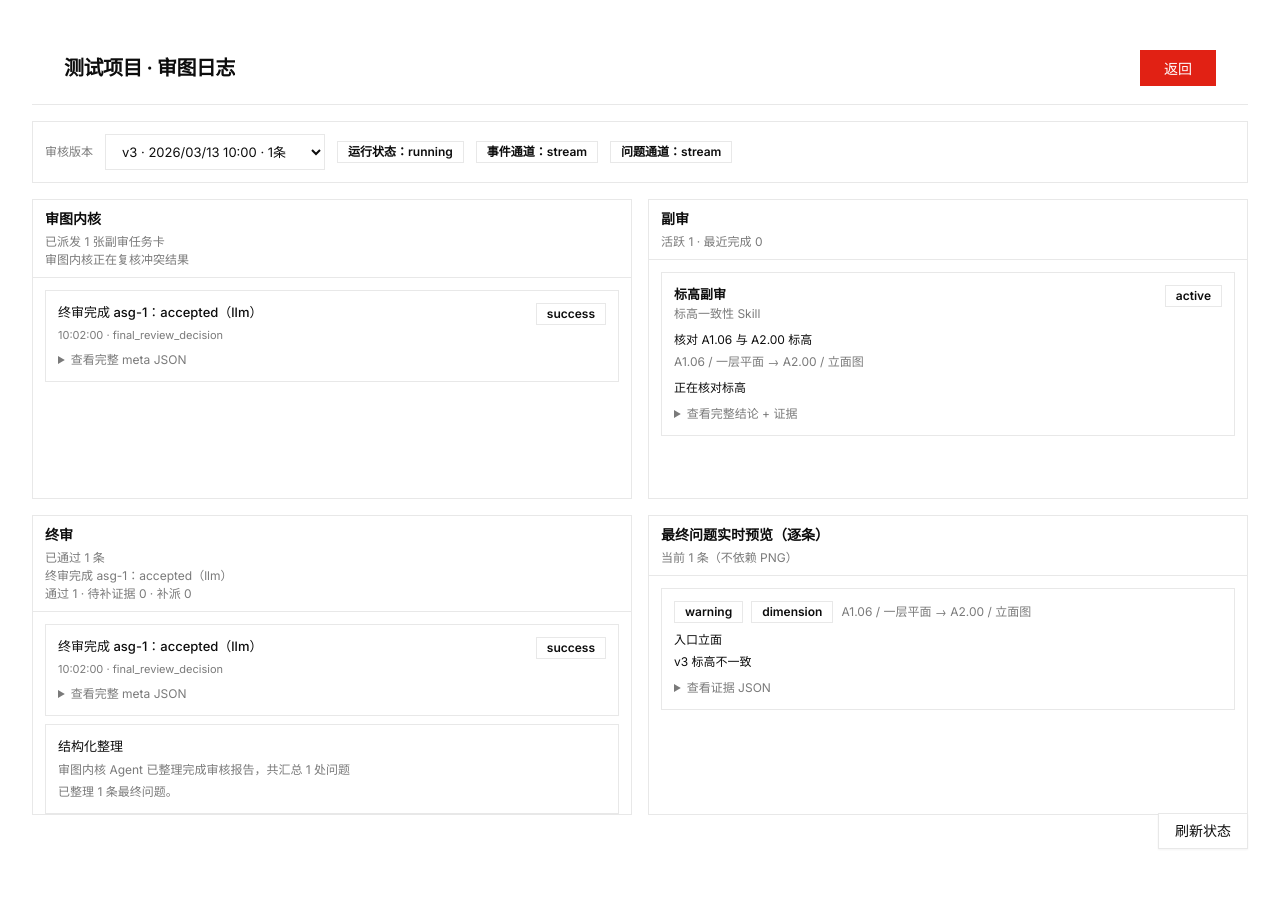
Test case: AuditLogsPage › 能把副审完成、终审决策、raw_rows 解析到对应分区
This screenshot has width=1280, height=900.
Click the heading "查看完整结论 + 证据" at (742, 413), box [687,406,797,420]
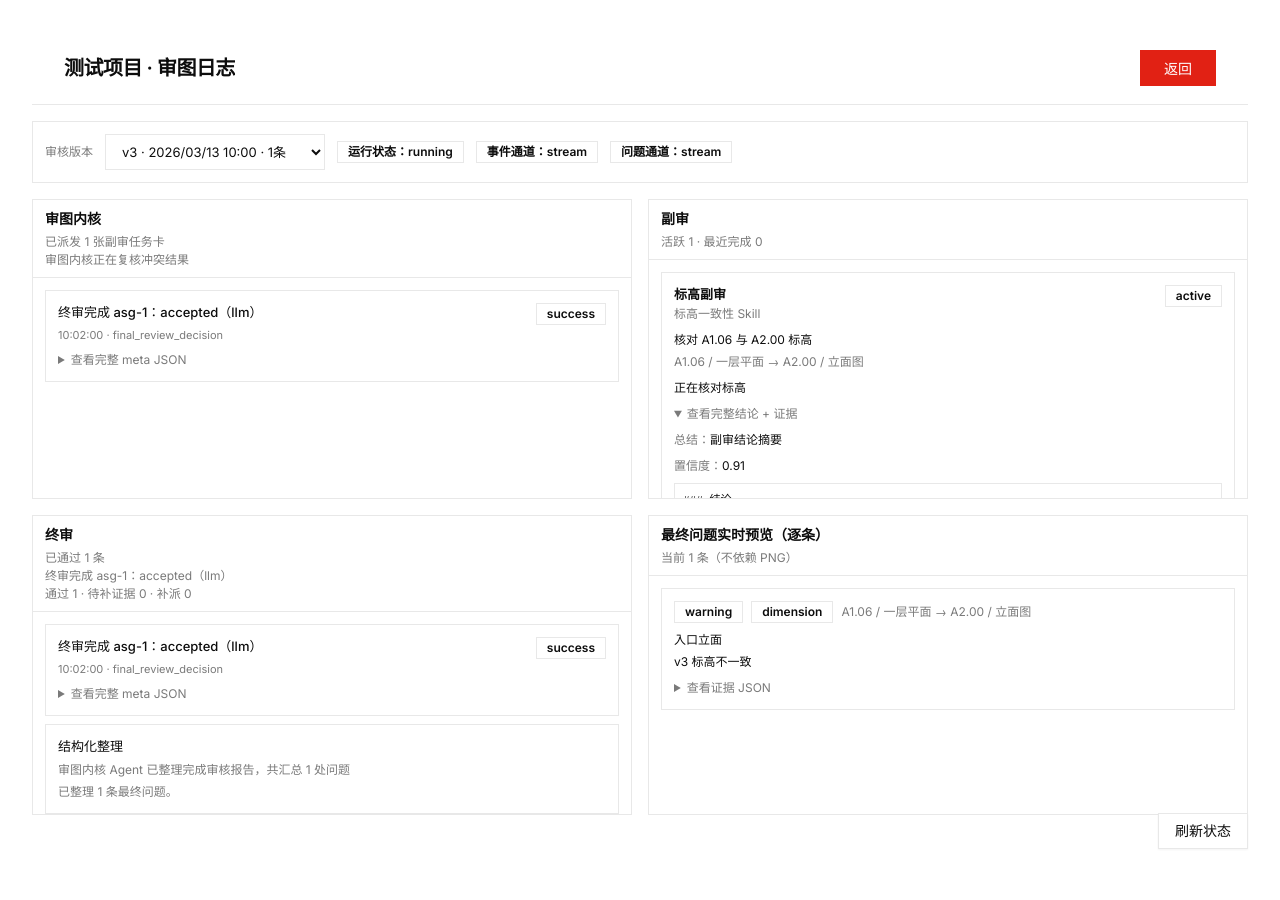
Expected: the text "终审完成 asg-1：accepted（llm）" below "审图内核正在复核冲突结果" is shown, [58,304,262,320]
Result: the text "总结：副审结论摘要" is shown at [674,432,782,446]
